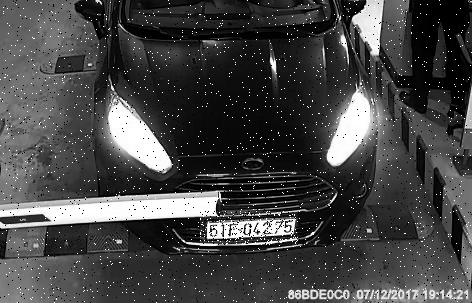License-plate: (201, 212, 299, 246)
